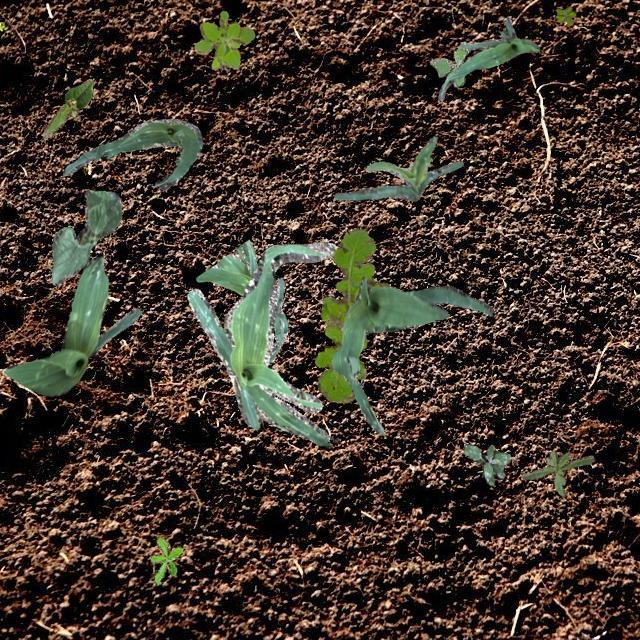crop: (187, 242, 336, 444), (330, 276, 492, 434), (2, 255, 142, 396), (195, 238, 286, 364), (62, 118, 202, 188), (438, 16, 538, 100), (334, 136, 462, 200), (51, 188, 120, 286), (42, 78, 92, 138)
weed: (314, 226, 390, 402), (194, 9, 254, 68), (520, 450, 594, 496), (462, 444, 510, 484), (148, 536, 182, 584), (429, 46, 467, 85), (554, 6, 574, 24)
